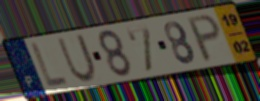7: (124, 23, 155, 74)
8: (96, 28, 135, 79), (164, 20, 197, 65)
L: (29, 41, 70, 89)
P: (185, 12, 224, 65)
U: (55, 33, 99, 84)
